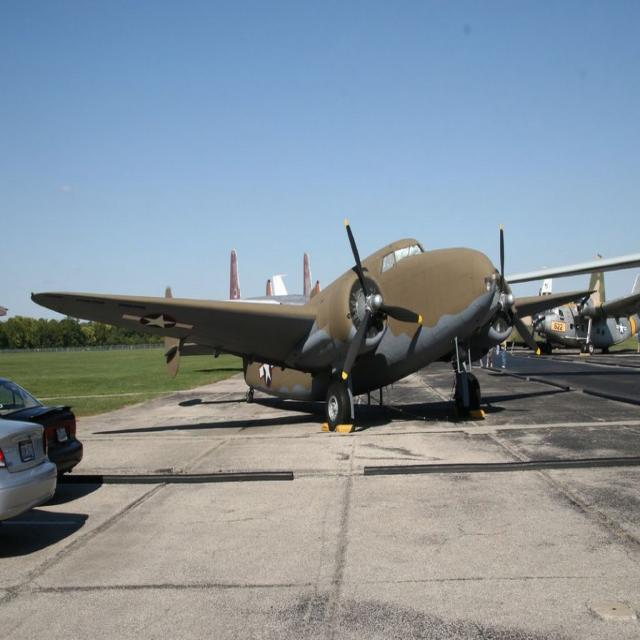other: (0, 376, 84, 477), (2, 421, 56, 517)
